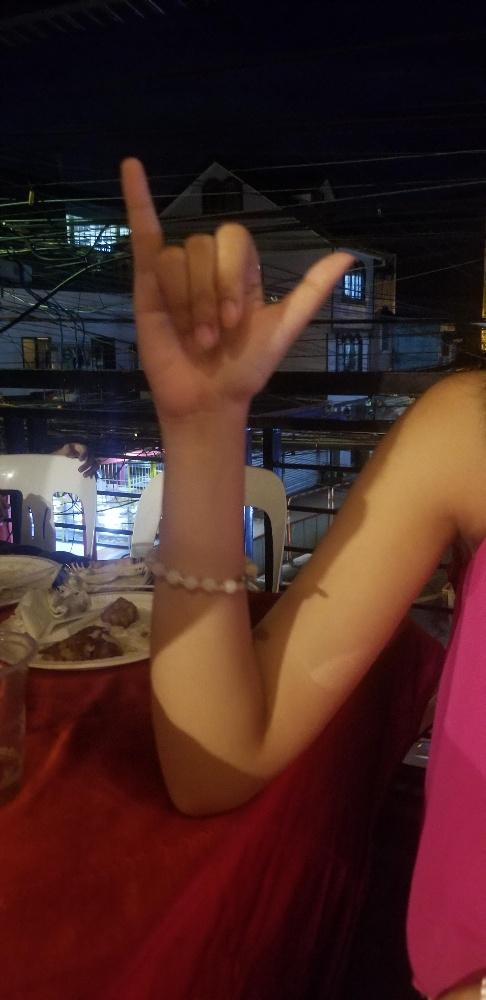y: (118, 151, 353, 405)
